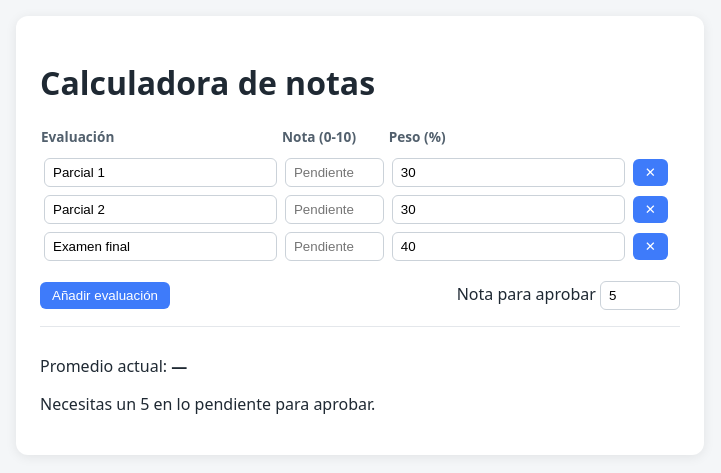
Test: App › muestra el promedio y la nota necesaria con evaluaciones pendientes
Type "4" into the 1st number field with placeholder "Pendiente" at {"x": 334, "y": 172}, box [285,158,384,187]
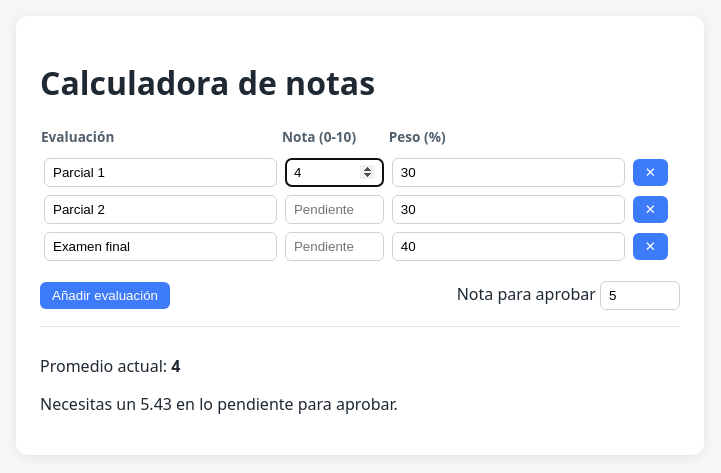
Type "6" into the 1st number field with placeholder "Pendiente" at {"x": 334, "y": 209}, box [285,195,384,224]
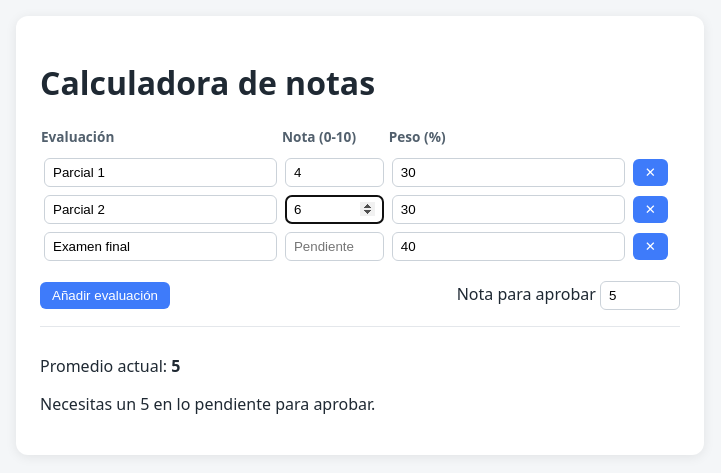
Check: the text with test id "necesaria" shows "Necesitas un 5", box [40,393,375,415]
Check: the text with test id "promedio" reads "5", box [171,355,180,377]
